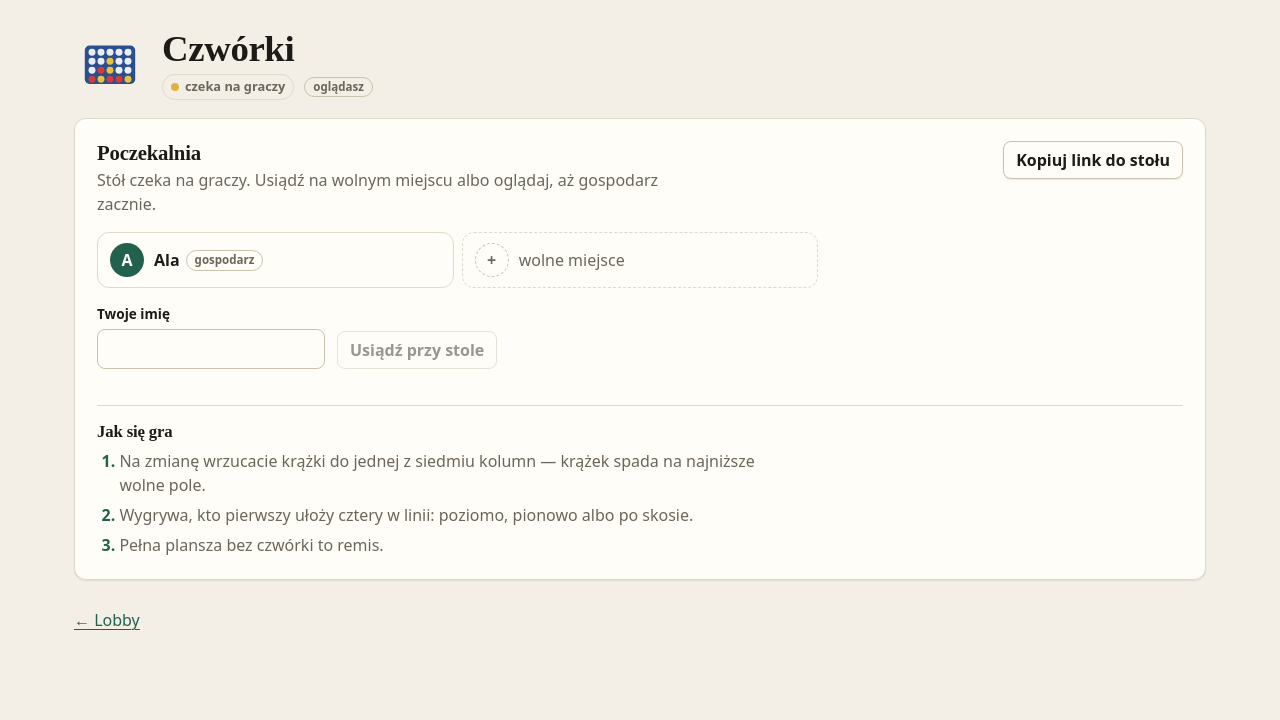
Scenario: sitting down at the table › sits down from a new connection and remembers the ticket and the name
Type "  Ola " into the field labelled "Twoje imię" at (211, 349), box [97,329,325,369]
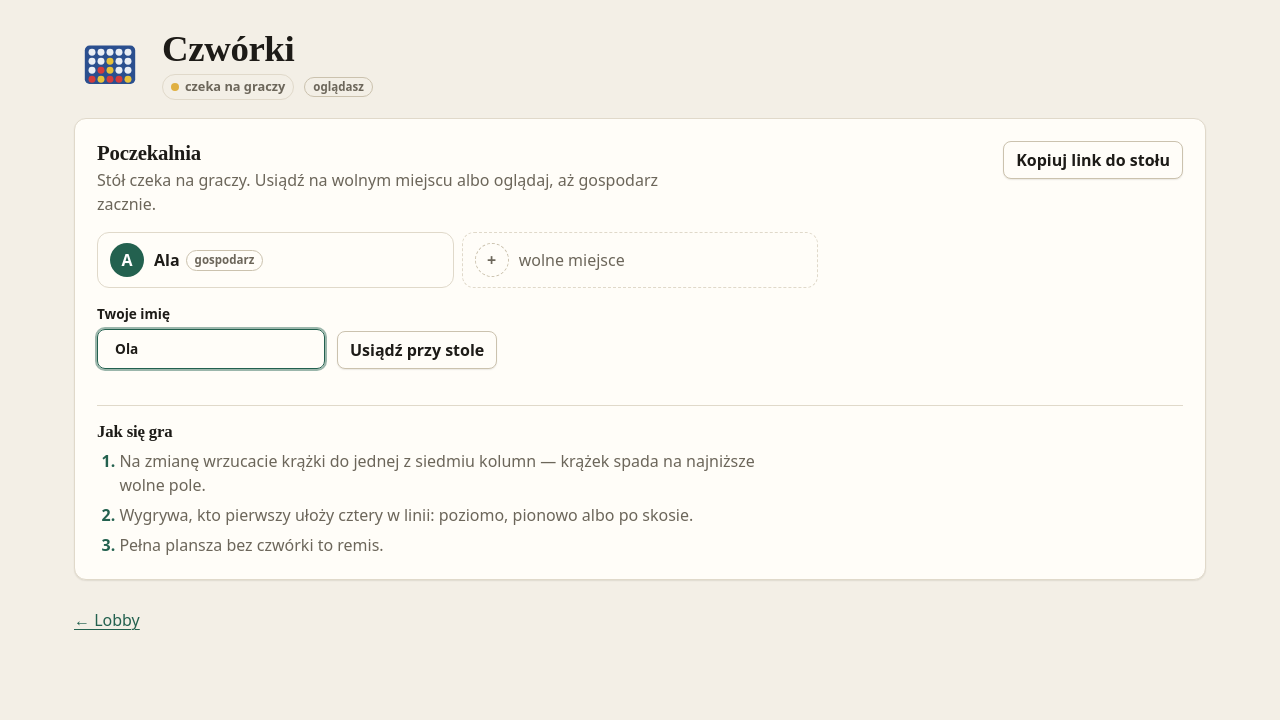
Click the button "Usiądź przy stole" at (417, 350), box [337,331,497,369]
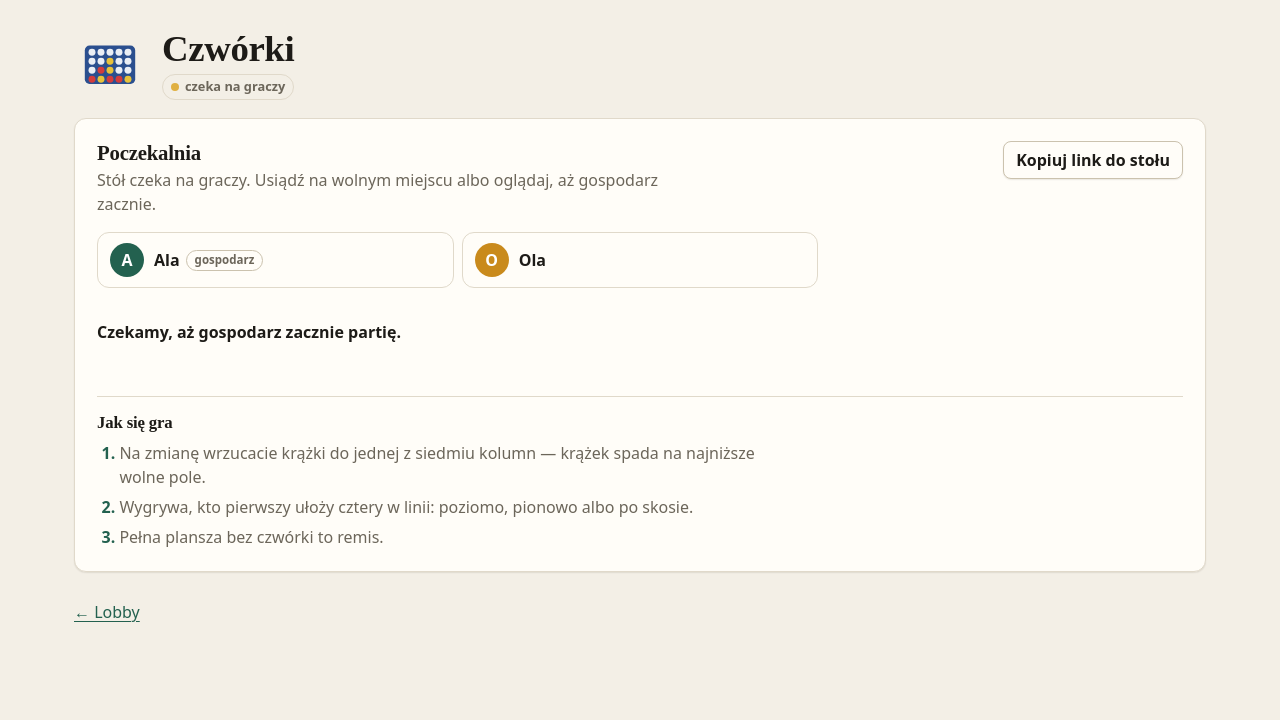
Expected: the text "Czekamy, aż gospodarz zacznie partię." is shown, [97,321,401,343]
